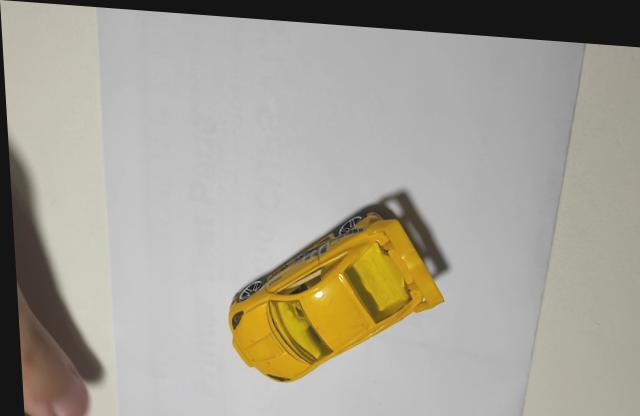07_RHLTURBO: (224, 187, 441, 377)
